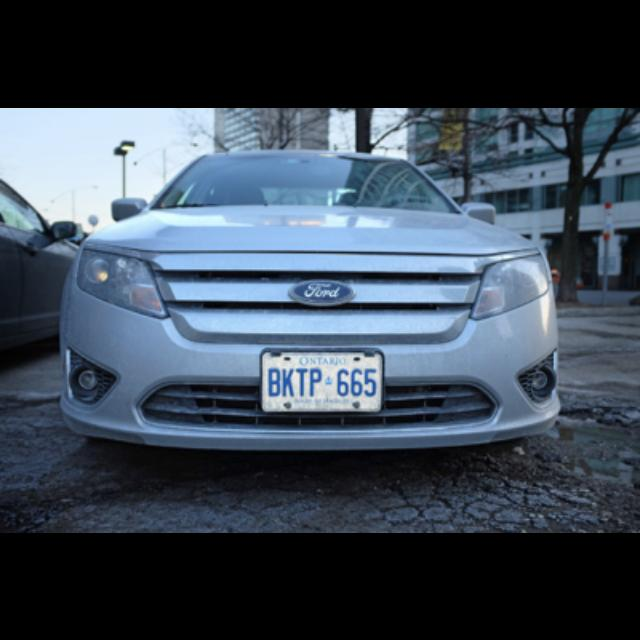carPlate: (260, 348, 384, 412)
